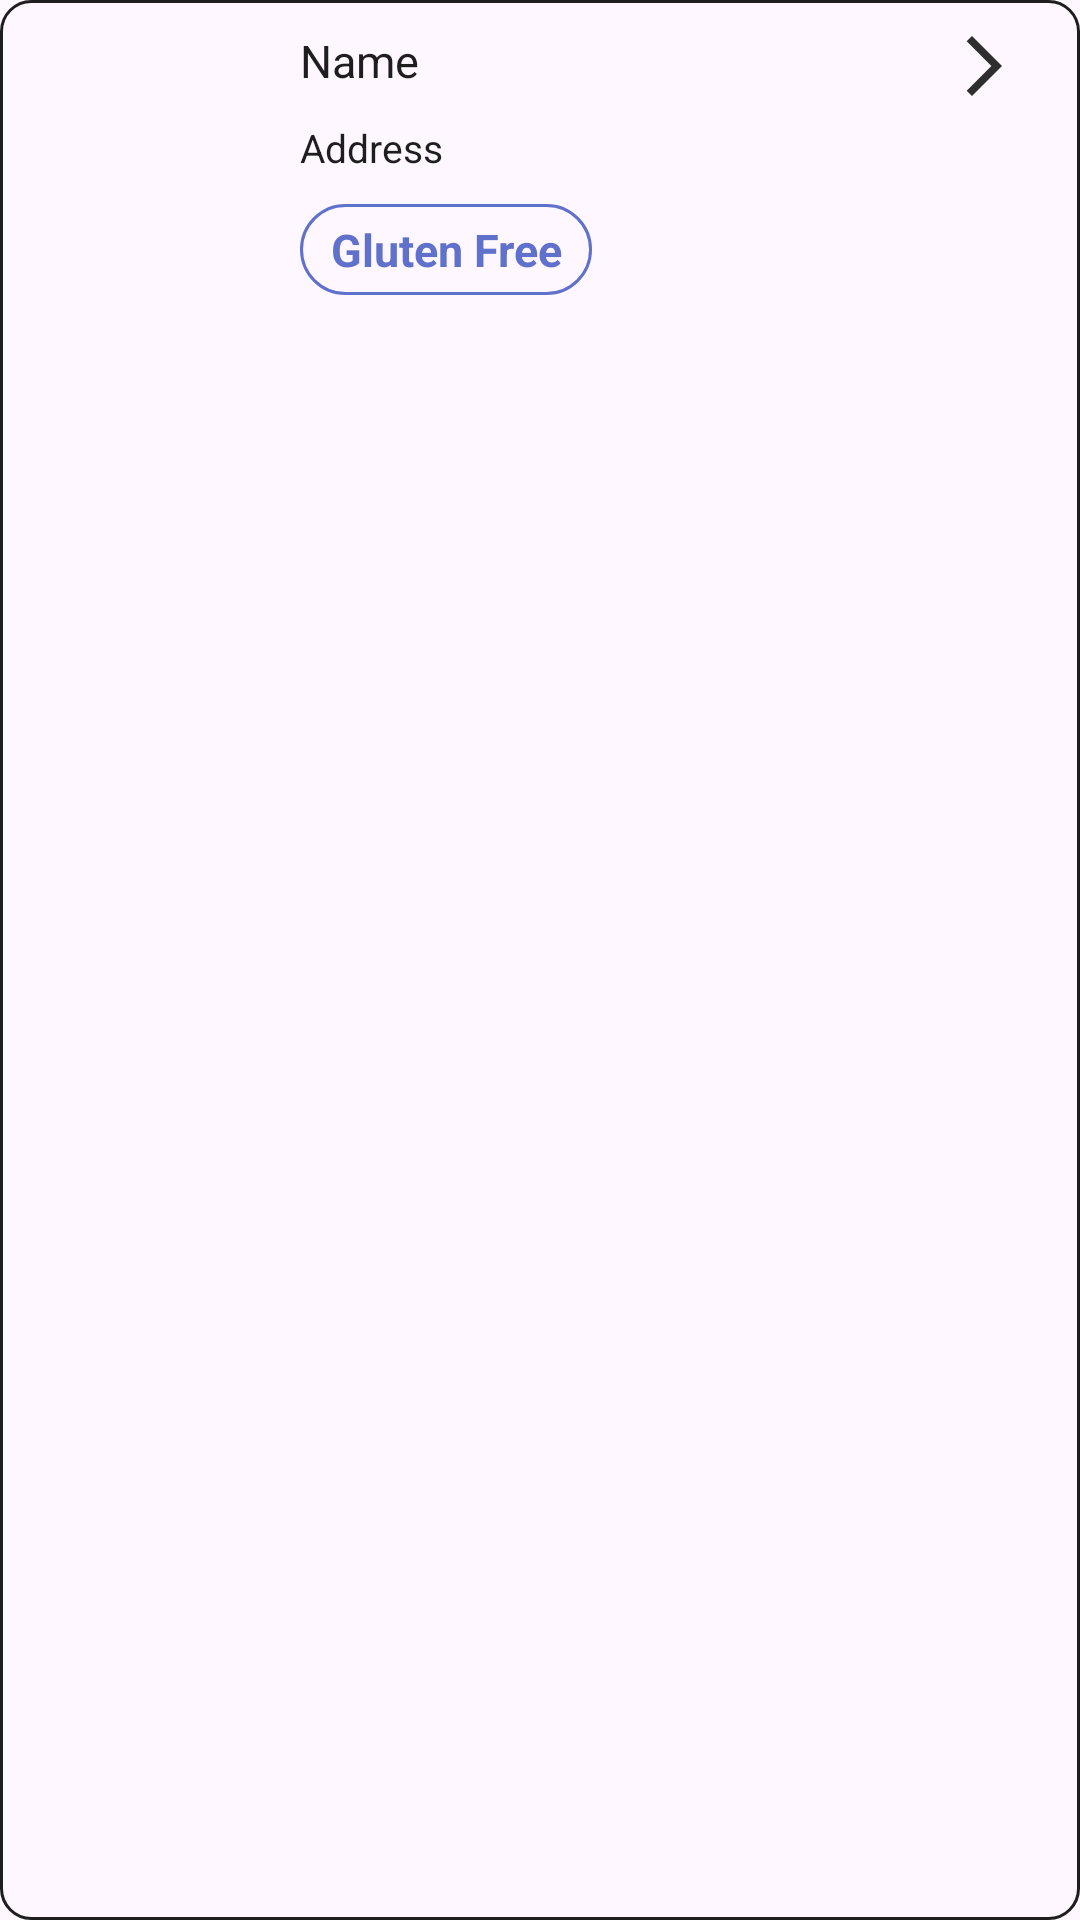

Icon bounding boxes for this 1080x1920 phone screenshot, format BBox(x1, y1, x2, y2):
arrow forward: BBox(967, 36, 1002, 96)
